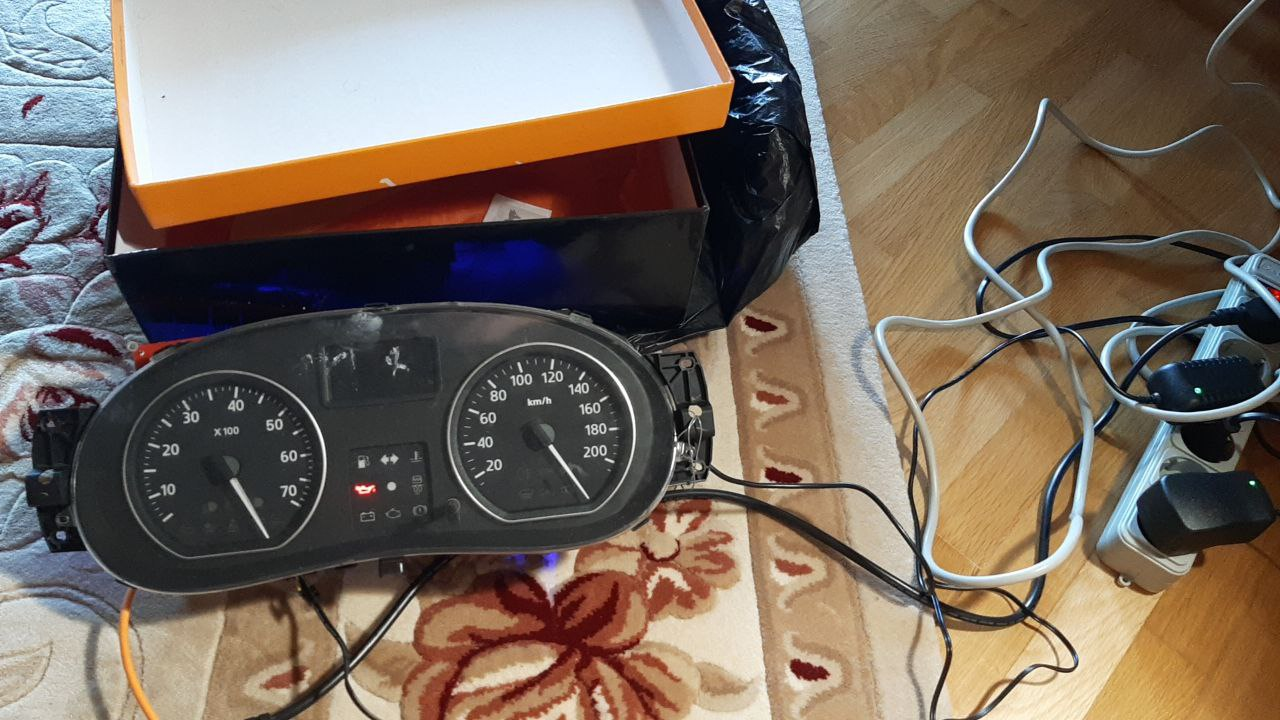oil: (347, 483, 377, 496)
